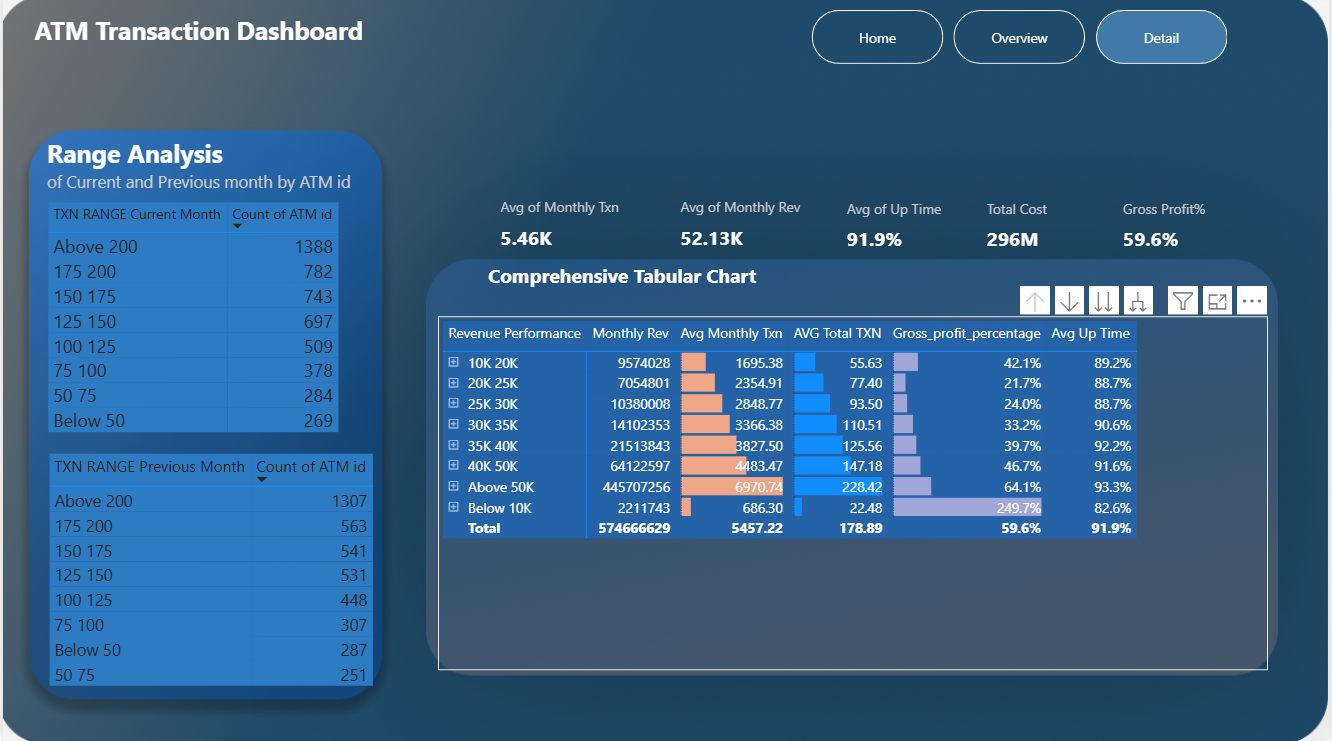

The dashboard page shown, as its layout file describes it:
{"tool":"powerbi","page":{"name":"Detail","canvas":[1280,720],"ordinal":2},"visuals":[{"type":"tableEx","fields":{"Values":["Dataset.TXN RANGE Current Month","Dataset.ATM id"]},"box":[37.4,195.8,318.2,241.9],"z":0},{"type":"tableEx","fields":{"Values":["Dataset.TXN RANGE Previous Month","Dataset.ATM id"]},"box":[38.9,437.8,335.5,243.4],"z":1000},{"type":"textbox","box":[37.1,131.4,318.6,84.3],"z":2000},{"type":"pivotTable","fields":{"Rows":["Dataset.Revenue Performance","Dataset.STATE"],"Values":["Sum(Dataset.Monthly Rev)","Avg(Dataset.Monthly Txn)","Avg(Dataset.AVG Total TXN)","Dataset.Gross_profit_percentage","Avg(Dataset.Up Time)"]},"box":[420,310,801.4,341.4],"z":3000},{"type":"cardVisual","fields":{"Data":["Avg(Dataset.Monthly Txn)"]},"box":[462.9,178.6,152.9,74.3],"z":4000},{"type":"cardVisual","fields":{"Data":["Avg(Dataset.Monthly Rev)"]},"box":[637.1,178.6,160,75.7],"z":5000},{"type":"cardVisual","fields":{"Data":["Avg(Dataset.Up Time)"]},"box":[797.1,180,135.7,74.3],"z":6000},{"type":"cardVisual","fields":{"Data":["Sum(Dataset. Total Cost  )"]},"box":[932.9,180,117.1,74.3],"z":7000},{"type":"cardVisual","fields":{"Data":["Dataset.Gross_profit_percentage"]},"box":[1064.3,180,118.6,74.3],"z":8000},{"type":"pageNavigator","box":[780,14.3,402.9,52.9],"z":9000},{"type":"textbox","box":[25.7,12.9,348.6,54.3],"z":10000},{"type":"textbox","box":[462.9,252.9,317.1,57.1],"z":11000}]}

Visuals, with their boxes in screenshot pixels (x1, y1, x2, y2), scaled from the page's 1280x720 canvas onto the 1332x741 screenshot:
tableEx - Dataset.TXN RANGE Current Month x Dataset.ATM id: Rect(39, 202, 370, 450)
tableEx - Dataset.TXN RANGE Previous Month x Dataset.ATM id: Rect(40, 451, 390, 701)
textbox: Rect(39, 135, 370, 222)
pivotTable - Dataset.Revenue Performance x Dataset.STATE: Rect(437, 319, 1271, 670)
cardVisual - Avg(Dataset.Monthly Txn): Rect(482, 184, 641, 260)
cardVisual - Avg(Dataset.Monthly Rev): Rect(663, 184, 829, 262)
cardVisual - Avg(Dataset.Up Time): Rect(829, 185, 971, 262)
cardVisual - Sum(Dataset. Total Cost  ): Rect(971, 185, 1093, 262)
cardVisual - Dataset.Gross_profit_percentage: Rect(1108, 185, 1231, 262)
pageNavigator: Rect(812, 15, 1231, 69)
textbox: Rect(27, 13, 390, 69)
textbox: Rect(482, 260, 812, 319)
